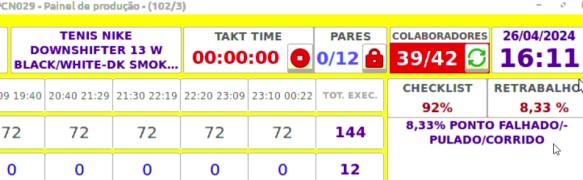takt_time: (186, 28, 284, 68)
